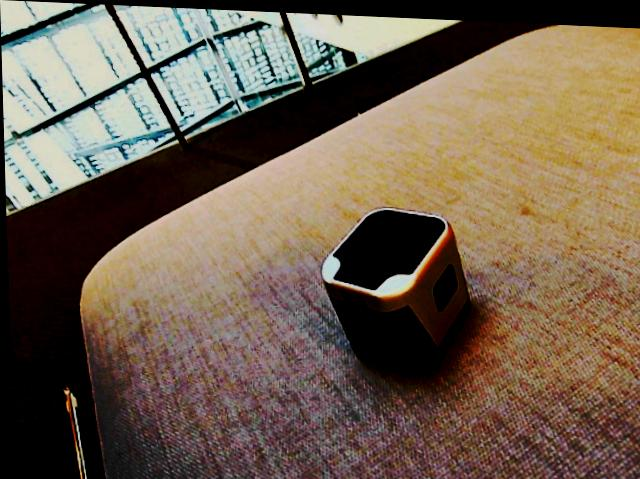adapter: (317, 200, 470, 373)
